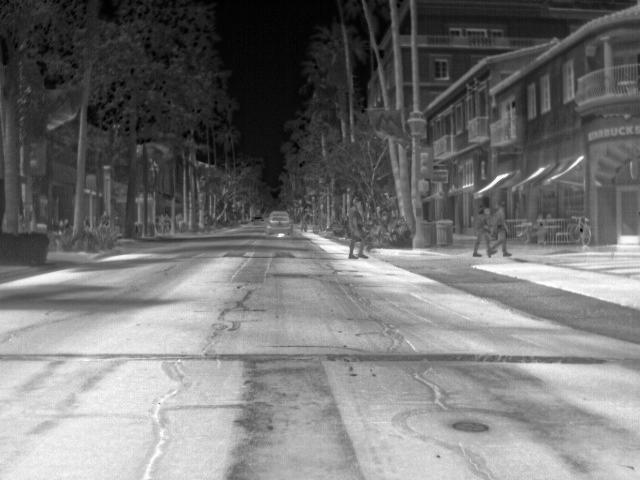car: (266, 210, 293, 237), (249, 216, 263, 228)
person: (346, 197, 368, 260), (488, 203, 511, 256), (472, 208, 493, 256), (56, 220, 66, 238), (61, 214, 70, 230)
